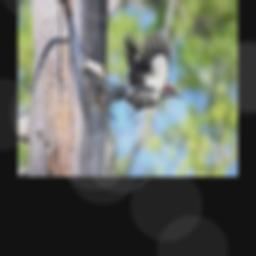Woodpecker: (101, 29, 186, 128)
